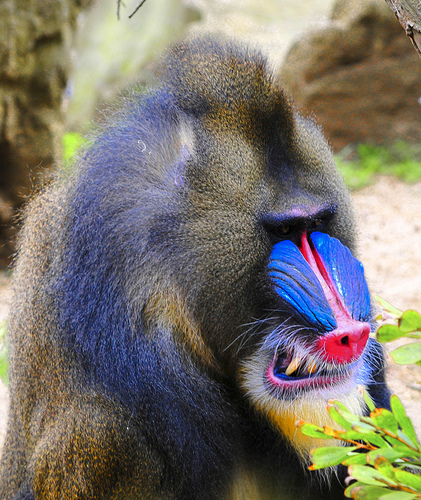Mandrill: (36, 72, 377, 494)
